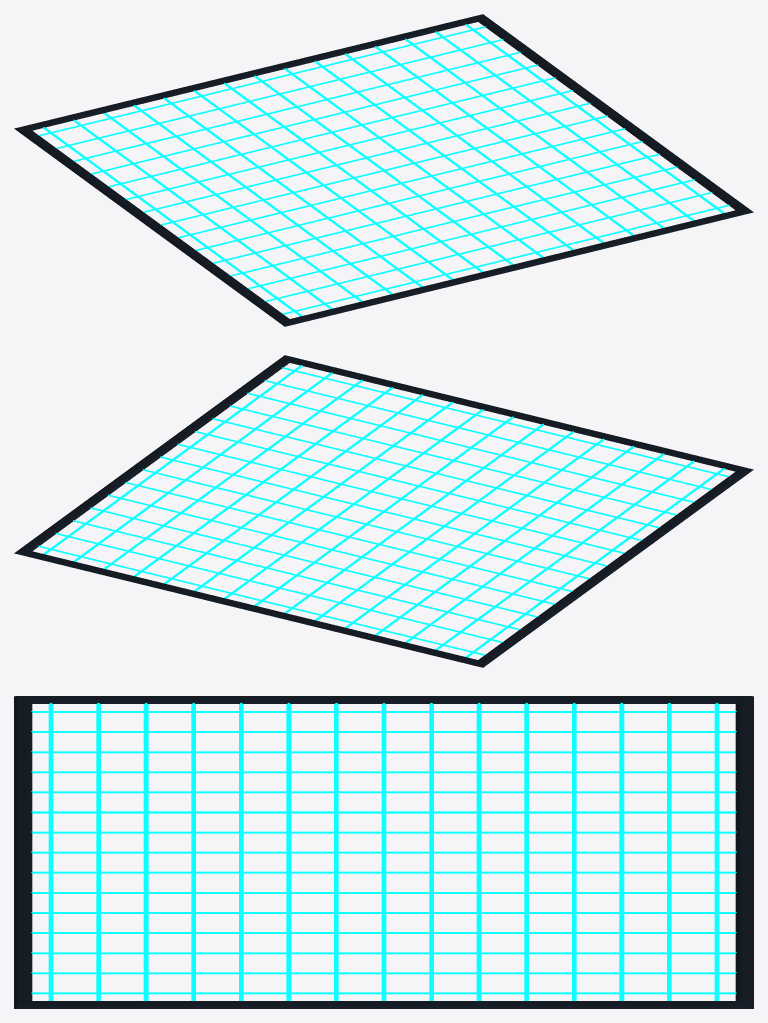
File: envFrame.glb
3 renders of one model, top to bottom at view 1: azimuth 30°, elevation 25°; view 2: azimuth 150°, elevation 25°; view 3: azimuth 270°, elevation 25°, orthographic. The views are drawn at different scales.
Parts seen in each view (by area): view 1: base_grid, Cube; view 2: base_grid, Cube; view 3: base_grid, Cube.
Part boxes in pixels (left/top/right/bottom): base_grid: left=38, top=24, right=729, bottom=316; Cube: left=14, top=14, right=753, bottom=326; base_grid: left=38, top=365, right=729, bottom=657; Cube: left=14, top=355, right=753, bottom=667; base_grid: left=31, top=702, right=736, bottom=1000; Cube: left=14, top=696, right=753, bottom=1008.
Size of the model in its own units: 14 by 0.0469 by 14.
